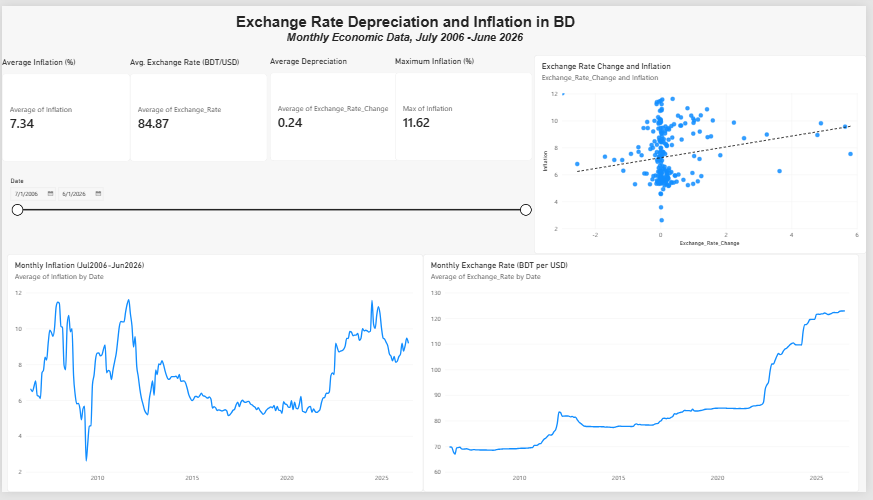

The dashboard page shown, as its layout file describes it:
{"tool":"powerbi","page":{"name":"Macroeconomic Overview","canvas":[1920,1080],"ordinal":0},"visuals":[{"type":"cardVisual","title":"Average Inflation (%)","fields":{"Data":["Avg(Bangladesh_analysis_data.Inflation)"]},"box":[0,112.7,285.3,232.3],"z":0},{"type":"cardVisual","title":"Avg. Exchange Rate (BDT/USD)","fields":{"Data":["Avg(Bangladesh_analysis_data.Exchange_Rate)"]},"box":[284.9,112.7,305.3,232.3],"z":1000},{"type":"cardVisual","title":"Average Depreciation","fields":{"Data":["Avg(Bangladesh_analysis_data.Exchange_Rate_Change)"]},"box":[595.3,110.6,285,233],"z":2000},{"type":"cardVisual","title":"Maximum Inflation (%)","fields":{"Data":["Max(Bangladesh_analysis_data.Inflation)"]},"box":[873.8,110.6,305.3,232.3],"z":3000},{"type":"lineChart","title":"Monthly Inflation (Jul2006-Jun2026)","fields":{"Category":["Bangladesh_analysis_data.Date"],"Y":["Avg(Bangladesh_analysis_data.Inflation)"]},"box":[10.6,550.6,924.8,529.4],"z":4000},{"type":"lineChart","title":"Monthly Exchange Rate (BDT per USD)","fields":{"Category":["Bangladesh_analysis_data.Date"],"Y":["Avg(Bangladesh_analysis_data.Exchange_Rate)"]},"box":[935.4,550.6,969.4,529.4],"z":5000},{"type":"scatterChart","title":"Exchange Rate Change and Inflation","fields":{"X":["Bangladesh_analysis_data.Exchange_Rate_Change"],"Y":["Bangladesh_analysis_data.Inflation"]},"box":[1181.2,108.4,738.8,442.4],"z":6000},{"type":"slicer","fields":{"Values":["Bangladesh_analysis_data.Date"]},"box":[10.6,380.6,1169.3,159.4],"z":7000},{"type":"textbox","title":"Exchange Rate Depreciation and Inflation in BD","box":[520.9,14.9,900.3,137.1],"z":7001},{"type":"textbox","title":"Monthly Economic Data, July 2006 -June 2026 ","box":[633.5,55.3,527.2,57.4],"z":7002}]}

Visuals, with their boxes in screenshot pixels (x1, y1, x2, y2), scaled from the page's 1920x1080 canvas onto the 873x500 screenshot:
"Average Inflation (%)" cardVisual: x1=0, y1=52, x2=130, y2=160
"Avg. Exchange Rate (BDT/USD)" cardVisual: x1=130, y1=52, x2=268, y2=160
"Average Depreciation" cardVisual: x1=271, y1=51, x2=400, y2=159
"Maximum Inflation (%)" cardVisual: x1=397, y1=51, x2=536, y2=159
"Monthly Inflation (Jul2006-Jun2026)" lineChart: x1=5, y1=255, x2=425, y2=499
"Monthly Exchange Rate (BDT per USD)" lineChart: x1=425, y1=255, x2=866, y2=499
"Exchange Rate Change and Inflation" scatterChart: x1=537, y1=50, x2=872, y2=255
slicer - Bangladesh_analysis_data.Date: x1=5, y1=176, x2=536, y2=250
"Exchange Rate Depreciation and Inflation in BD" textbox: x1=237, y1=7, x2=646, y2=70
"Monthly Economic Data, July 2006 -June 2026 " textbox: x1=288, y1=26, x2=528, y2=52
